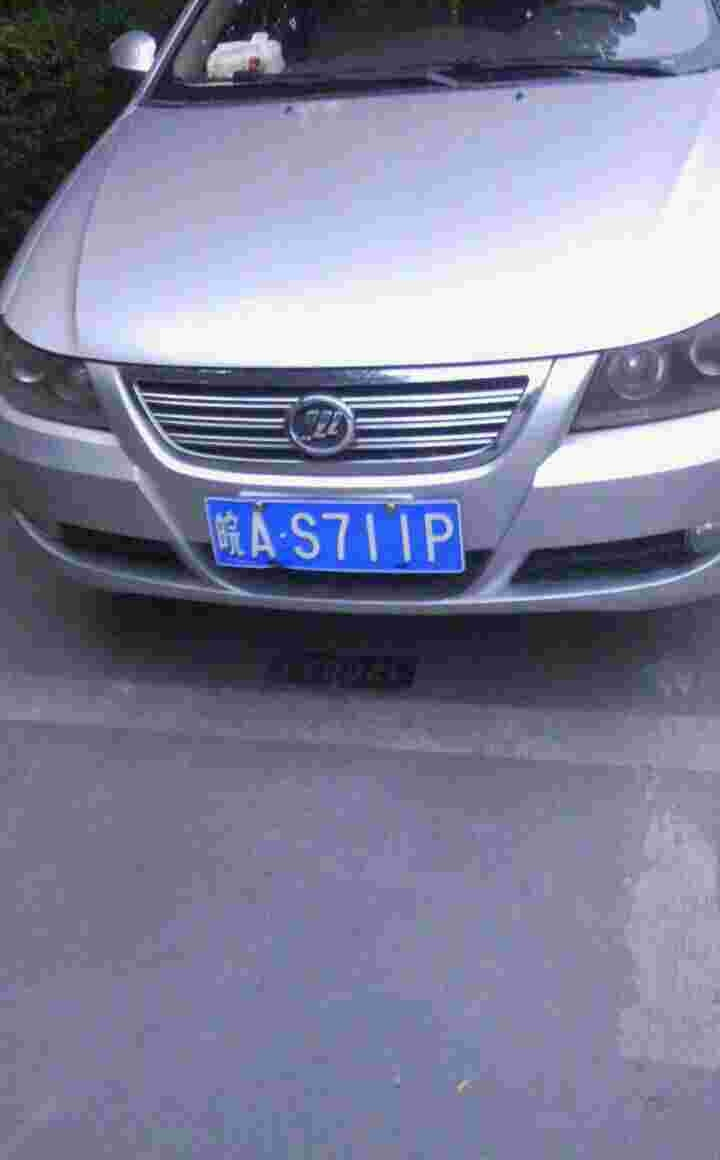license_plate: (208, 494, 477, 578)
